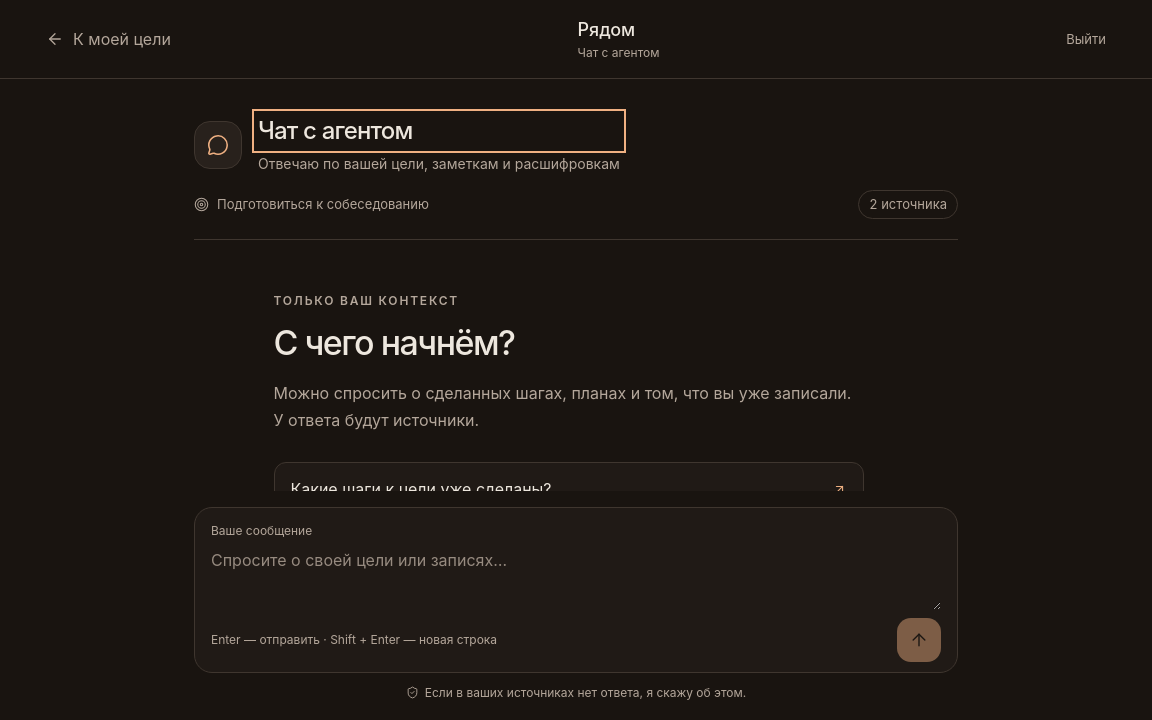
it: cancels promptly, keeps the draft, and ignores a late result from a transport that ignored abort
In the text box: [576, 579] box [211,548,941,610], type "Не теряй вопрос"
Then press Enter
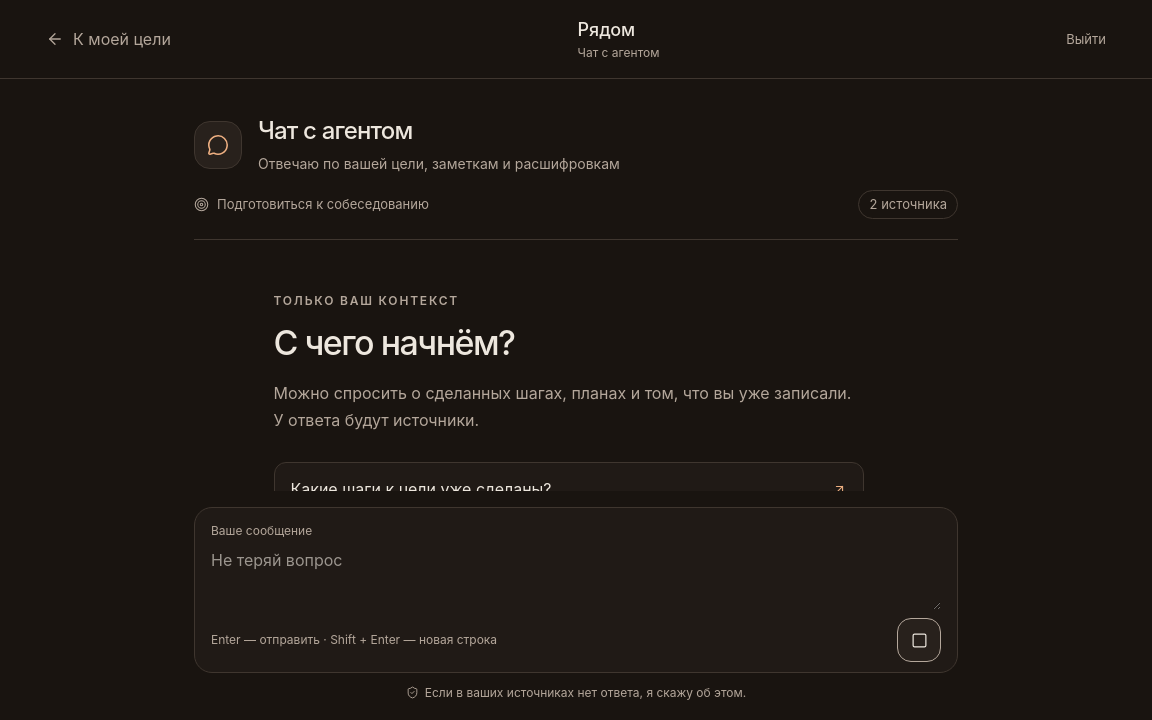
Click the button named "Остановить ответ": [919, 640] box [897,618,941,662]
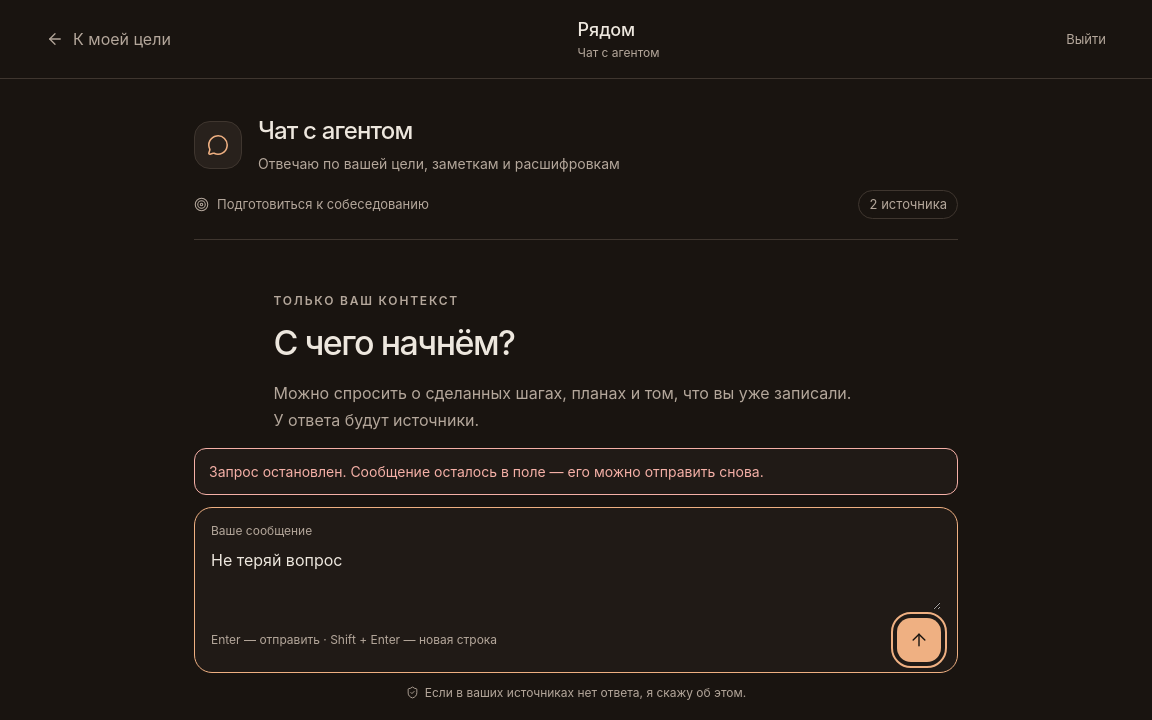
expect the message shows "Запрос остановлен": met, box [209,463,764,480]
